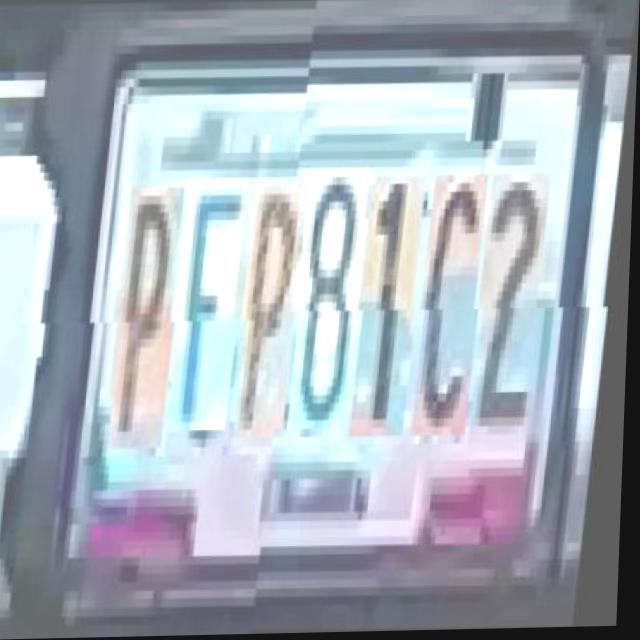1: (358, 184, 434, 447)
2: (479, 183, 559, 437)
8: (297, 177, 378, 439)
c: (421, 184, 497, 446)
f: (177, 178, 257, 432)
p: (118, 187, 194, 449), (243, 185, 314, 440)
